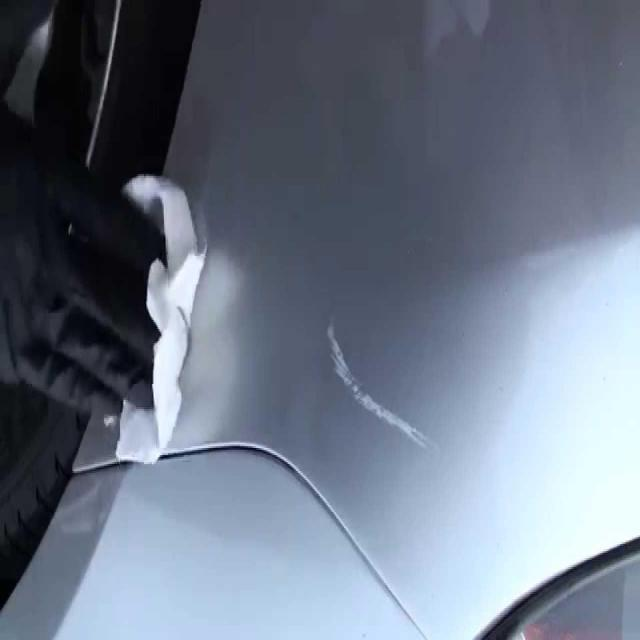scratch: (318, 315, 440, 459)
